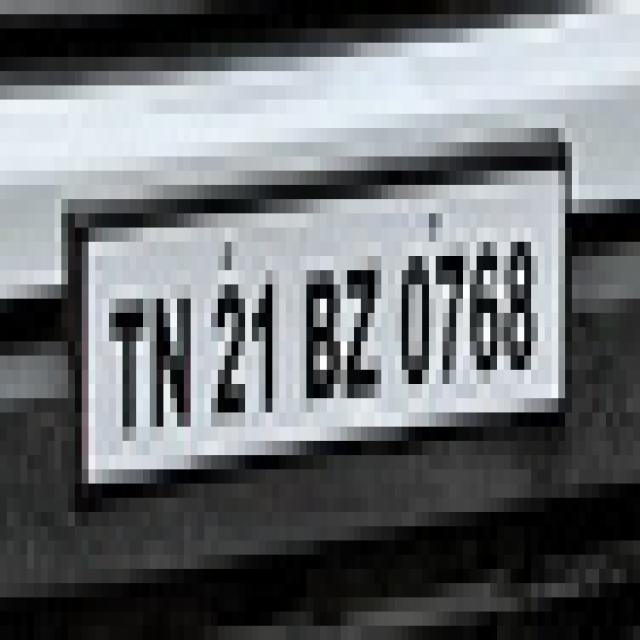0: (394, 241, 432, 395)
1: (248, 249, 278, 439)
6: (468, 225, 505, 392)
7: (433, 236, 465, 404)
8: (500, 220, 539, 378)
B: (300, 246, 348, 409)
N: (150, 276, 199, 449)
T: (106, 272, 148, 459)
Z: (344, 252, 384, 410)
